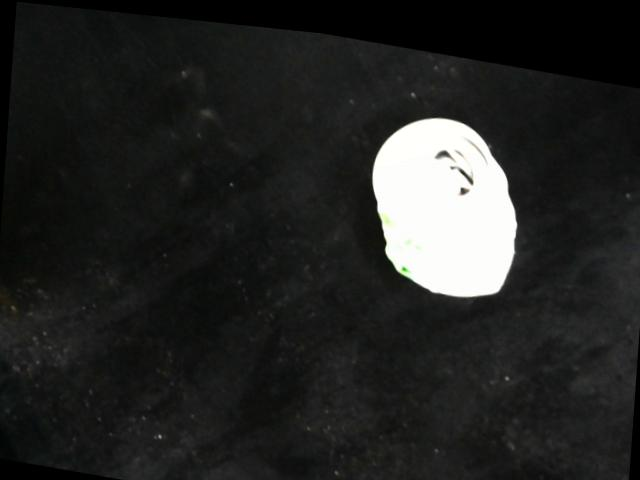can: (366, 97, 524, 287)
